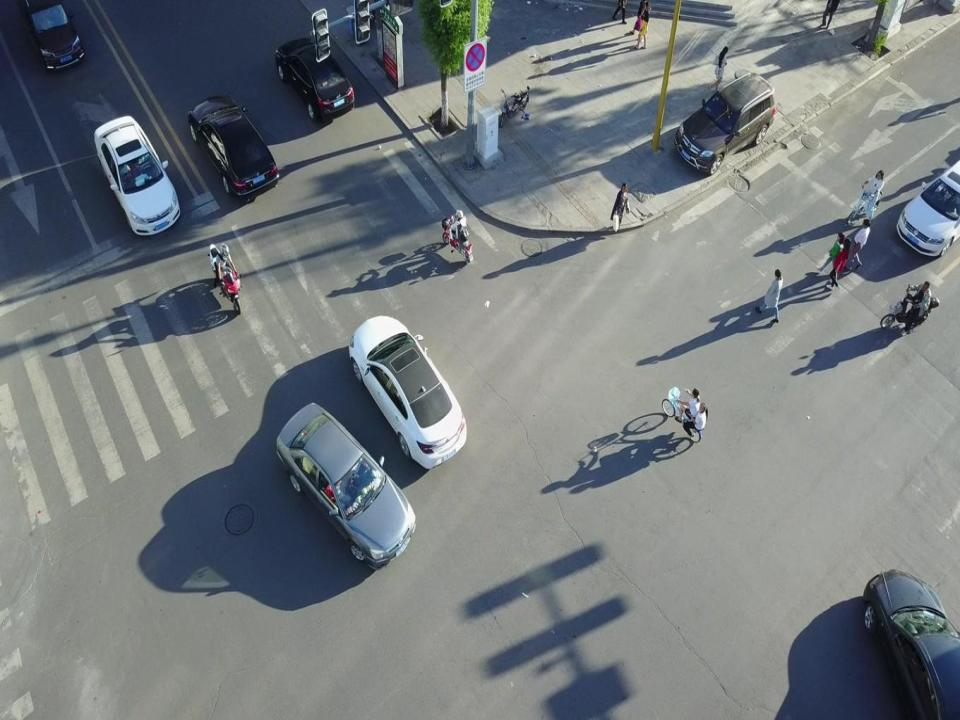car: (274, 397, 418, 571), (346, 312, 469, 470), (859, 564, 959, 720), (92, 115, 182, 238), (673, 71, 776, 177), (185, 90, 279, 204), (273, 36, 355, 125), (893, 153, 960, 260), (20, 0, 87, 74)
